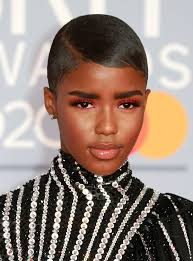person: (42, 13, 151, 176)
